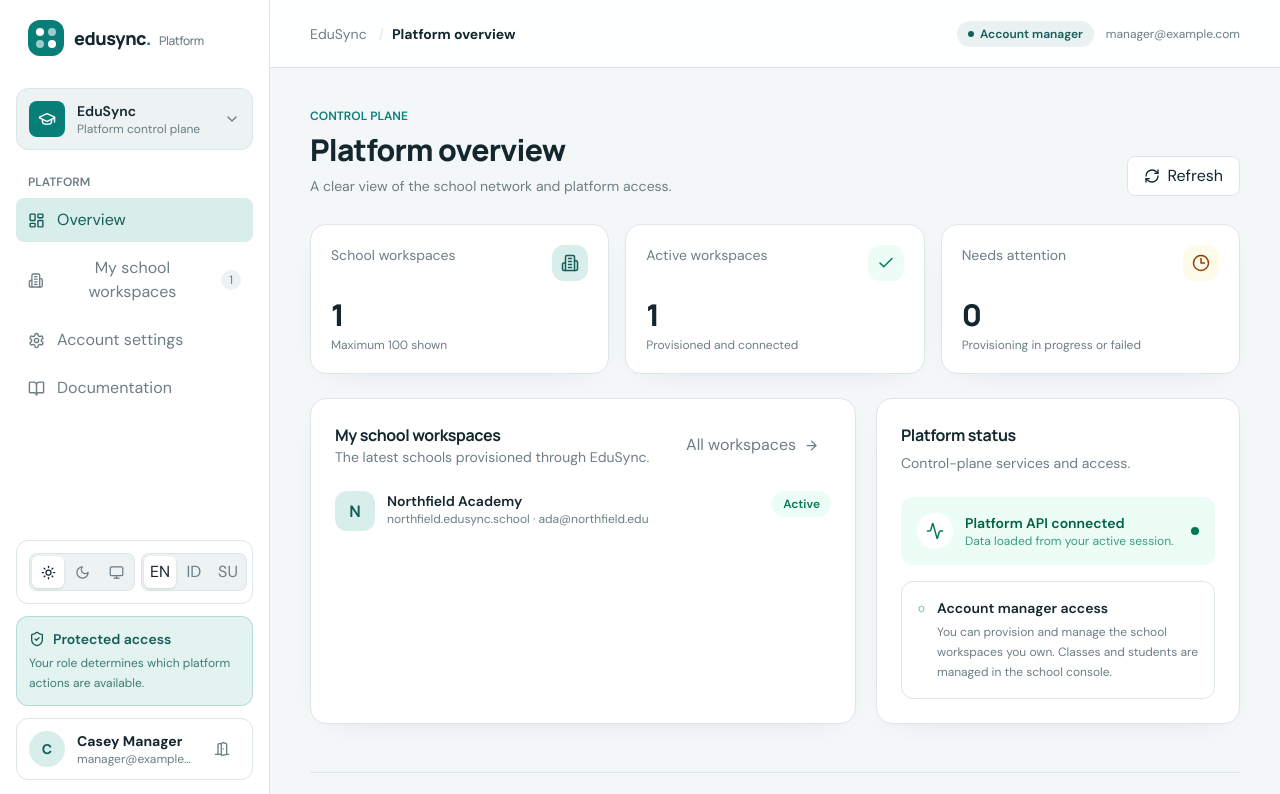
it: Account manager (platform_user) permissions › still lets an account manager create a school workspace
Expected: the text "Northfield Academy" is shown, [387,492,522,510]
What coordinates should you click on to do the following:
click the button "My school workspaces 1"
I would click on:
 (134, 280)
Its box is [16,246,253,314].
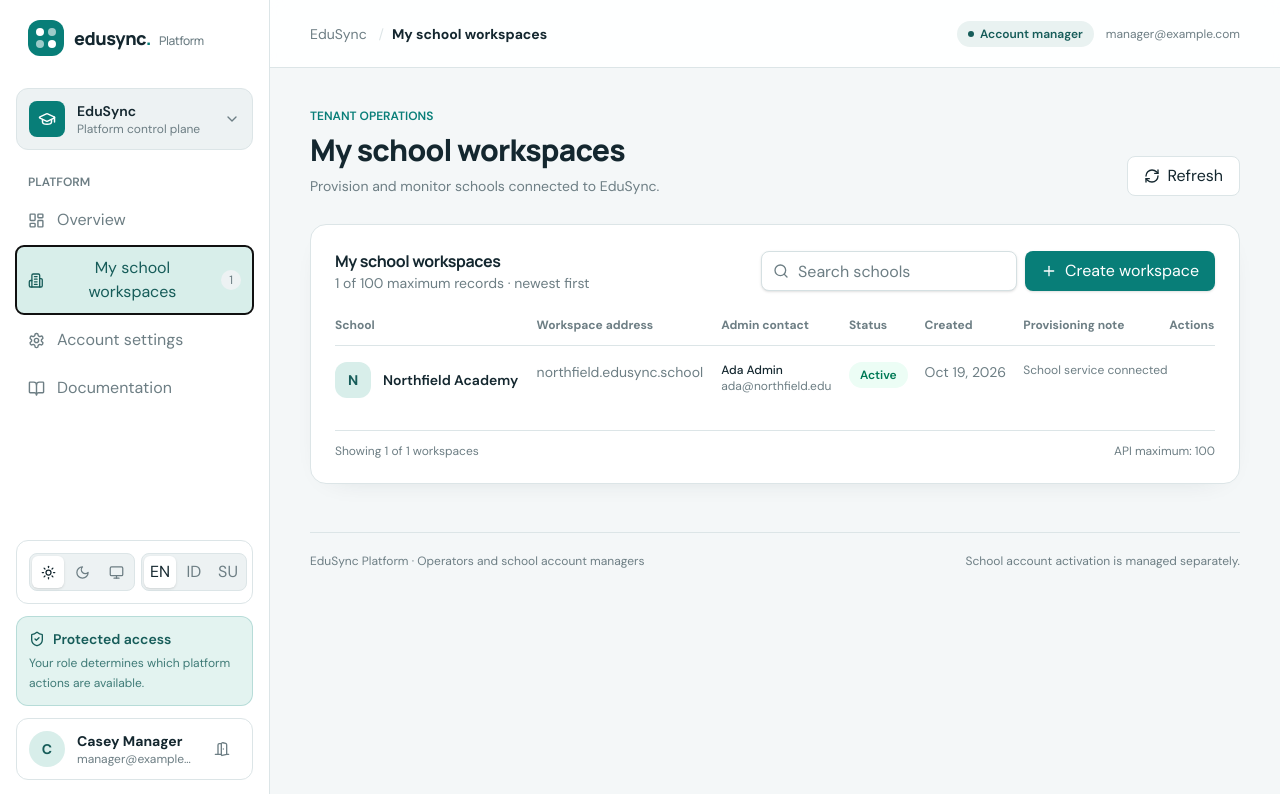
Expected: the heading "My school workspaces" below "TENANT OPERATIONS" is shown, [310,132,659,168]
Expected: the button "Create workspace" is shown, [1025,251,1215,291]
